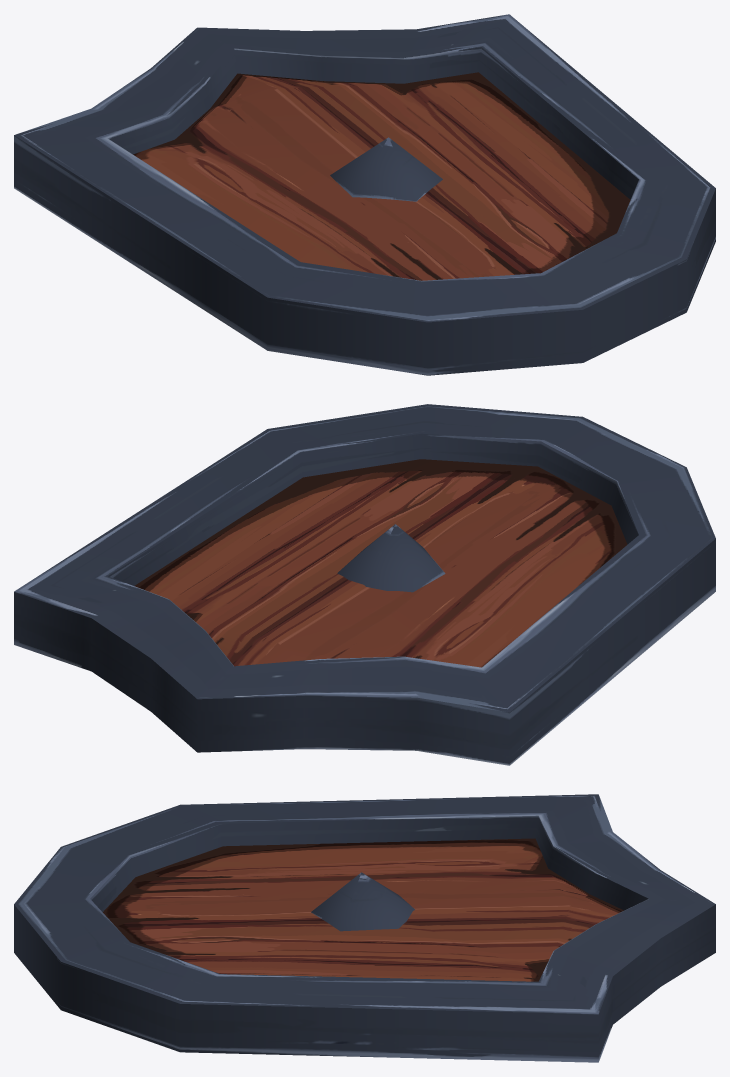
File: SM_PROP_weapon_shield_interior_01.fbx
The picture shows the model from 3 angles, top to bottom: view 1: azimuth 30°, elevation 25°; view 2: azimuth 150°, elevation 25°; view 3: azimuth 270°, elevation 25°; orthographic projection. The views are drawn at different scales.
Parts seen in each view (by area): view 1: SM_PROP_weapon_shield_interior_01; view 2: SM_PROP_weapon_shield_interior_01; view 3: SM_PROP_weapon_shield_interior_01.
Part boxes in pixels (left/top/right/bottom): SM_PROP_weapon_shield_interior_01: left=14, top=14, right=715, bottom=375; SM_PROP_weapon_shield_interior_01: left=14, top=404, right=715, bottom=765; SM_PROP_weapon_shield_interior_01: left=14, top=794, right=715, bottom=1062.
Bounding box in the file's own units: 49.02 × 8.83 × 66.09.
